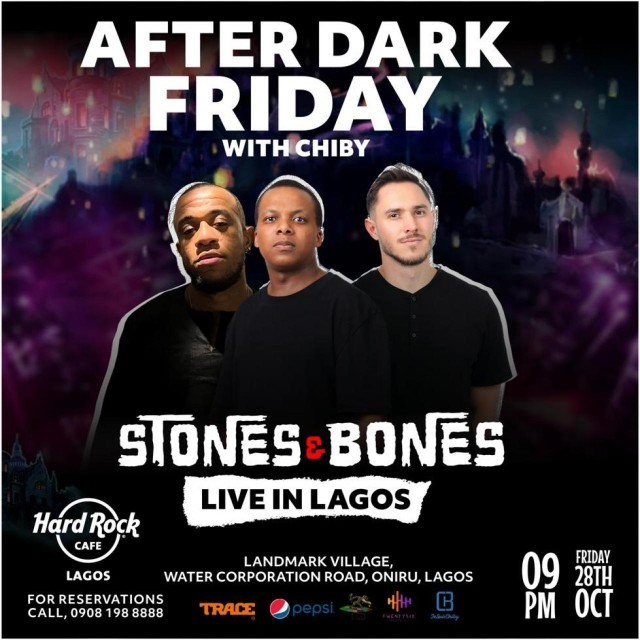pepsi: (268, 597, 293, 621)
